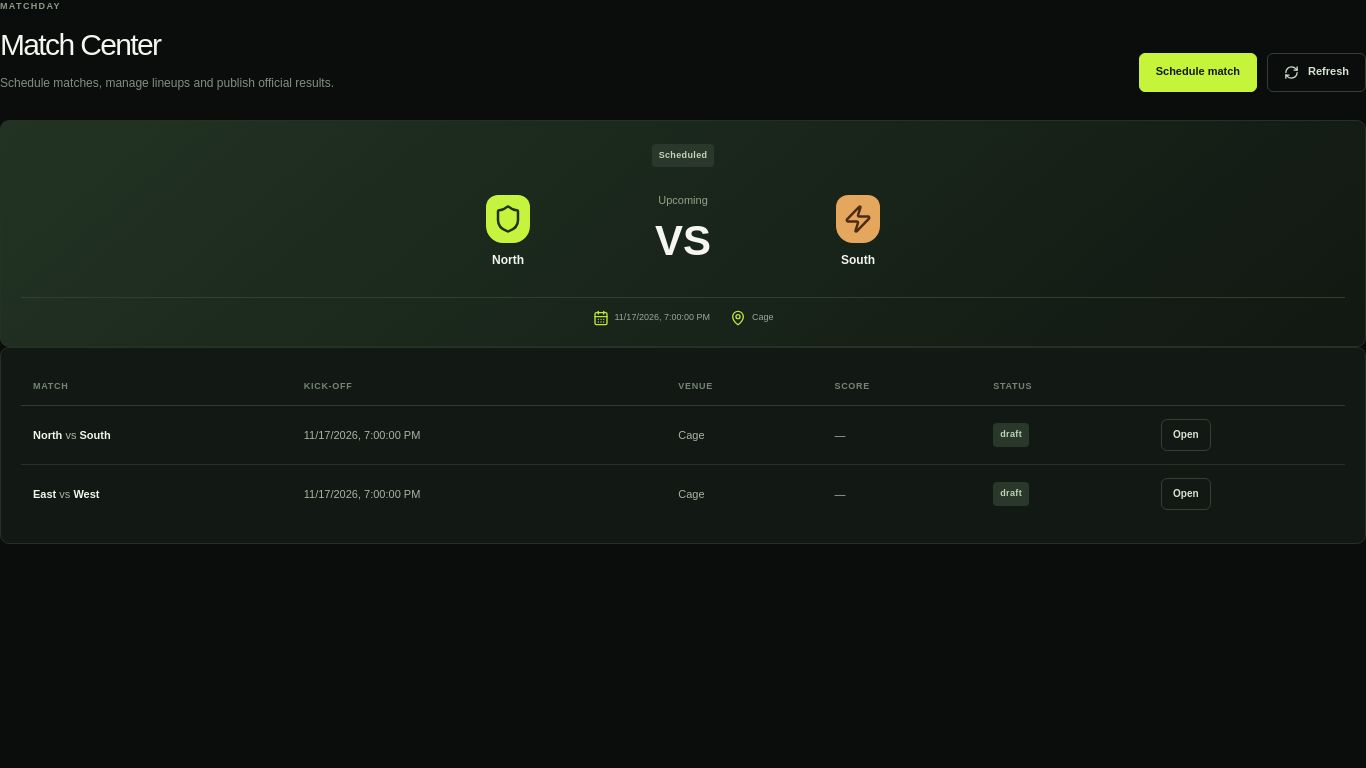
Scenario: Live fixtures and scheduling › clears editor state when switching matches and submits only the newly active match IDs
Later steps or results of the test are not shown.
Click the 1st button "Open".
click(1186, 435)  # box [1161,419,1211,451]
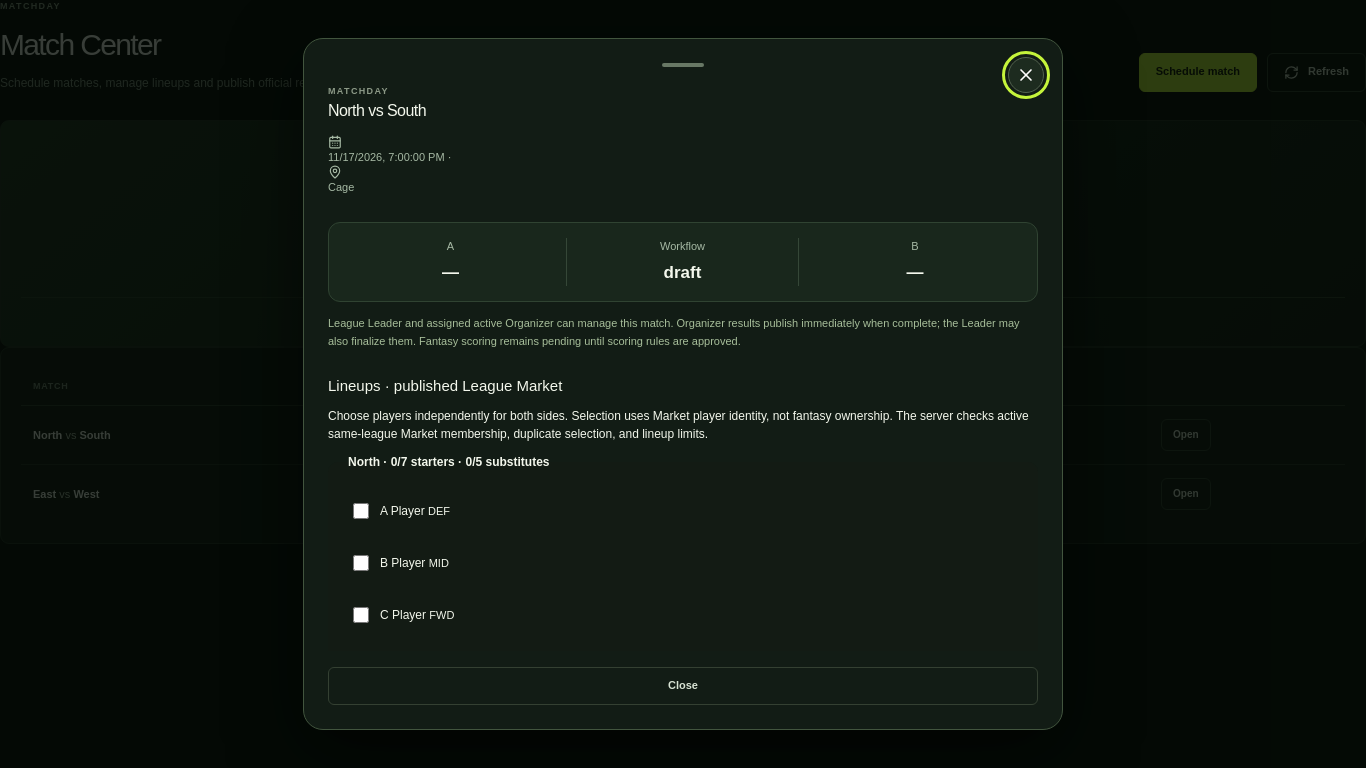
Click the checkbox labelled "A Player DEF".
click(361, 511)  # box [353,503,369,519]
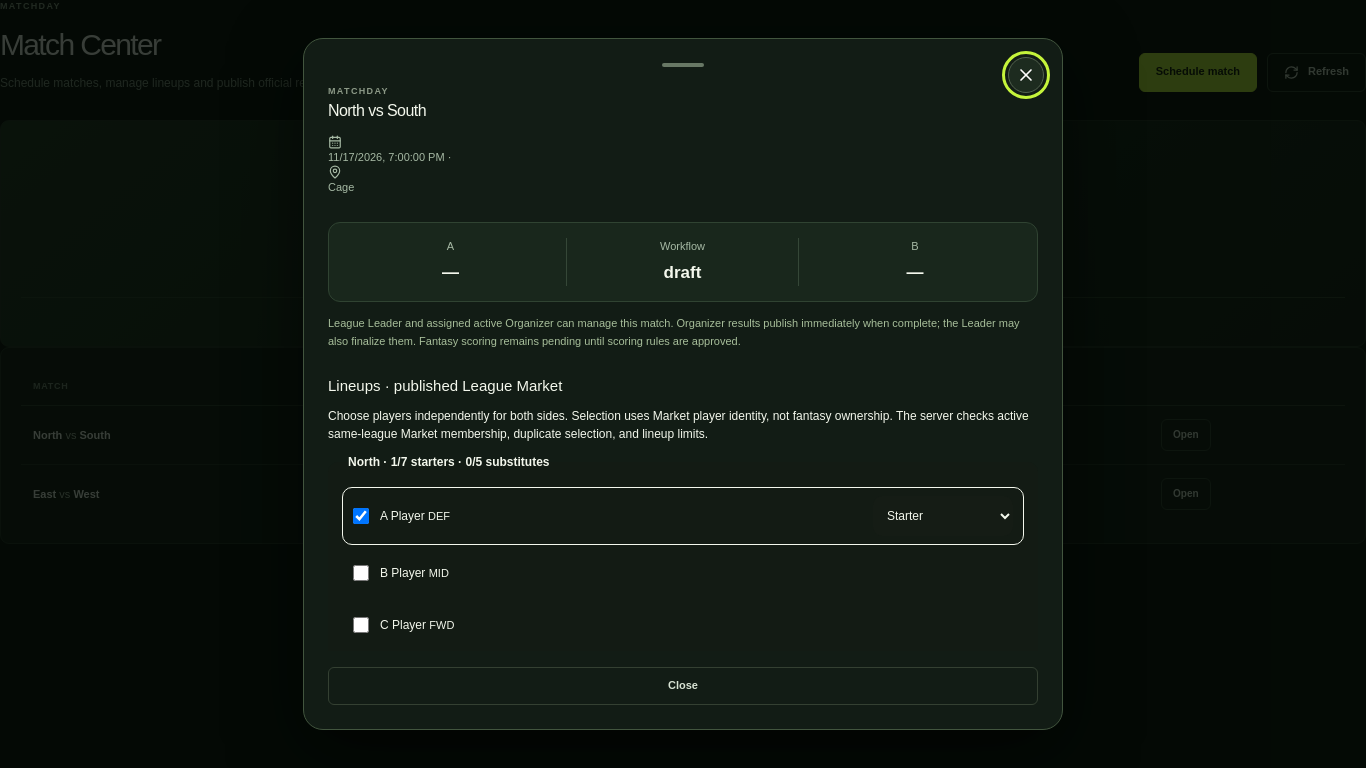
Click the button named "Close".
click(1026, 75)  # box [1008,57,1044,93]
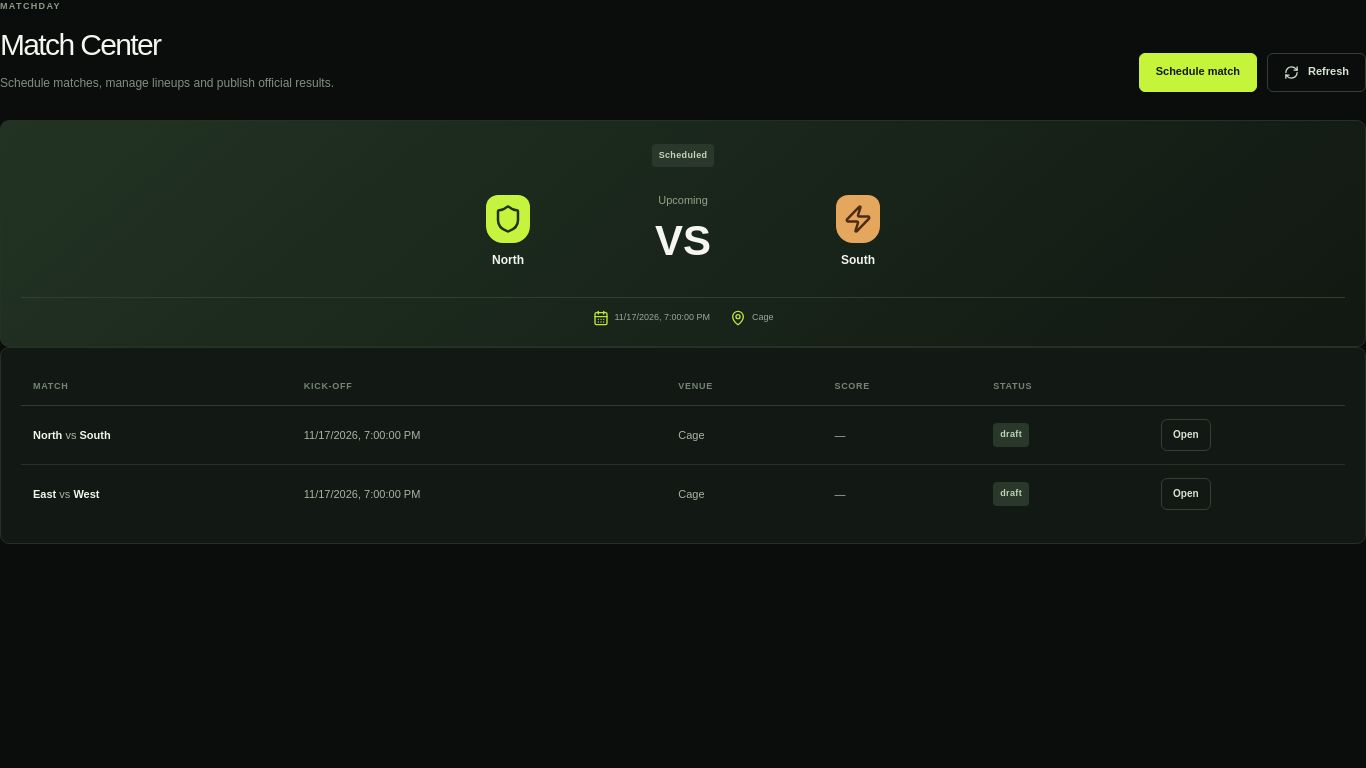
Now the dialog is gone
Click the button "Open" in the row of "East".
click(1186, 494)  # box [1161,478,1211,510]
(page scrolled)
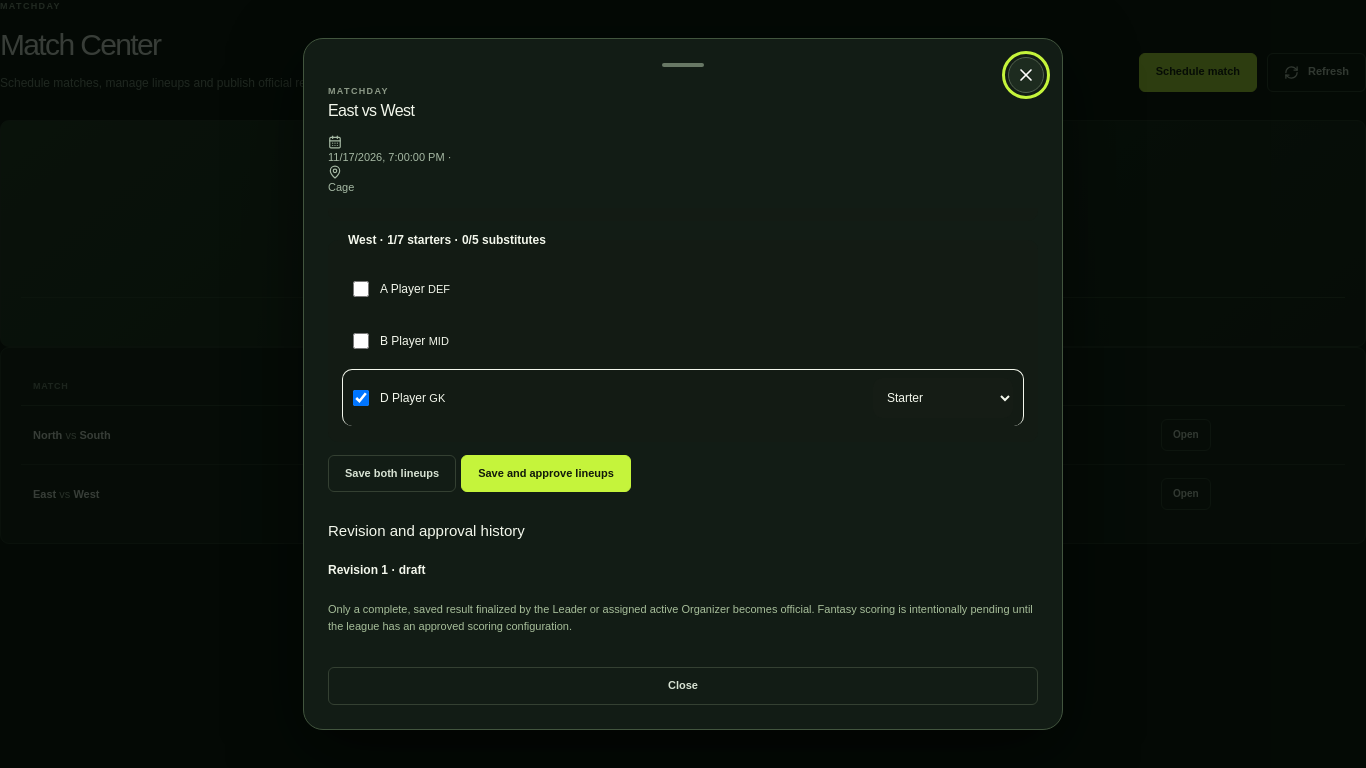
Now the heading "East vs West" is shown, box [328,102,414,119]
